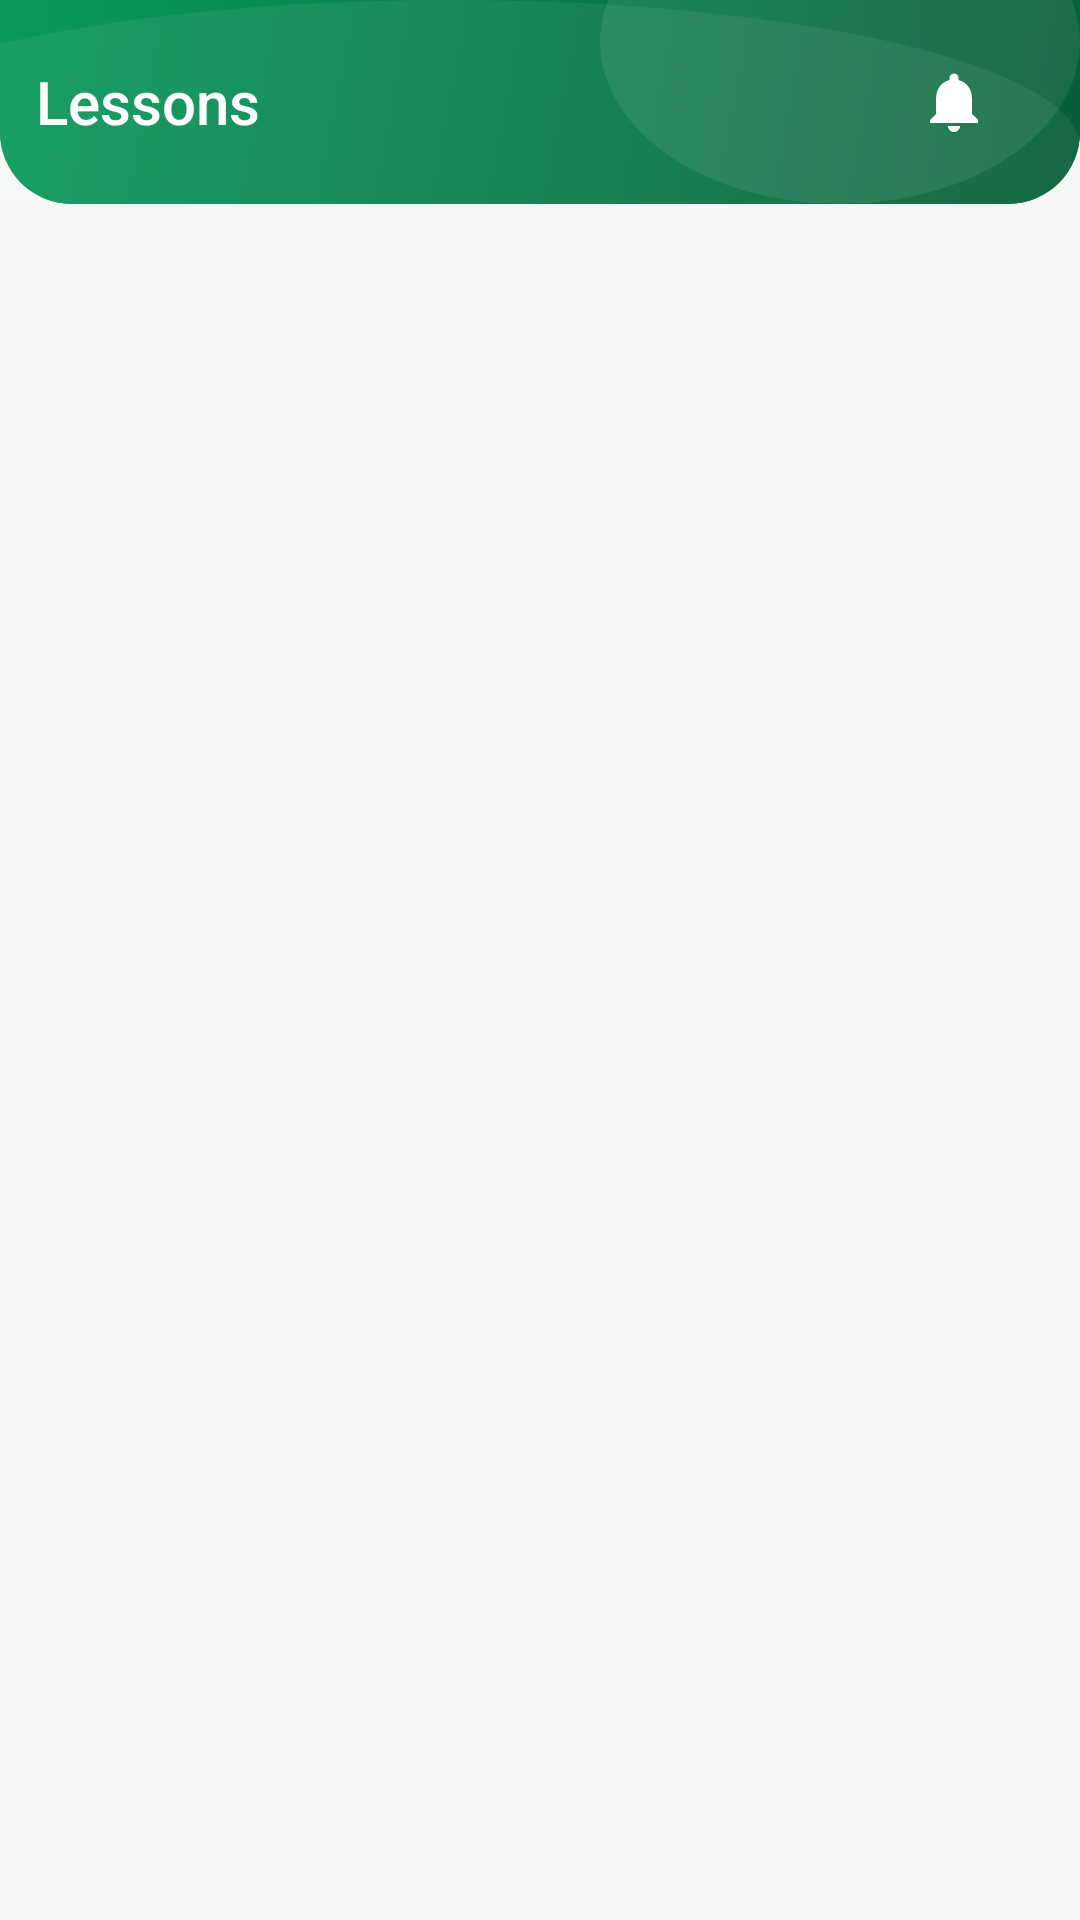

Where to tap for icons on this 1080 x 1920 app screen, as (x=x, y=y):
Notifications: (x=954, y=102)
